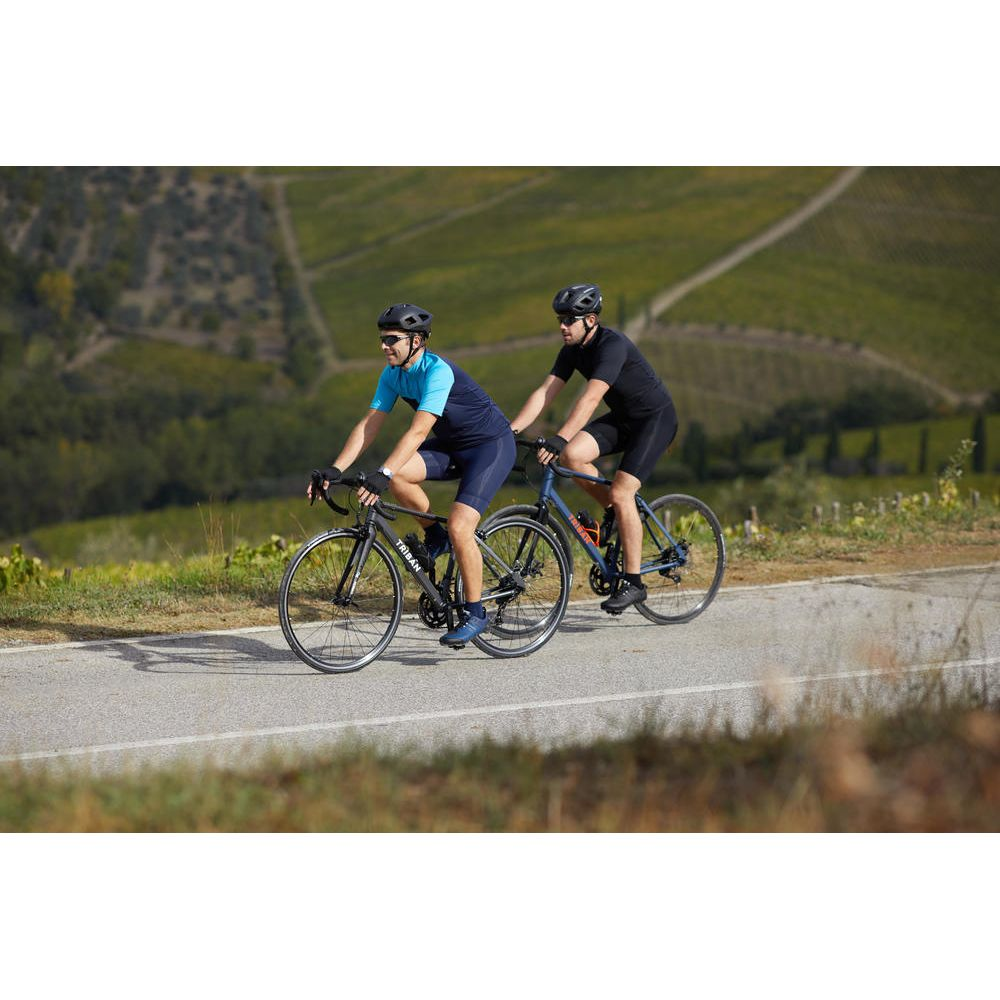RoadBike: (278, 467, 574, 671), (461, 455, 731, 647)
